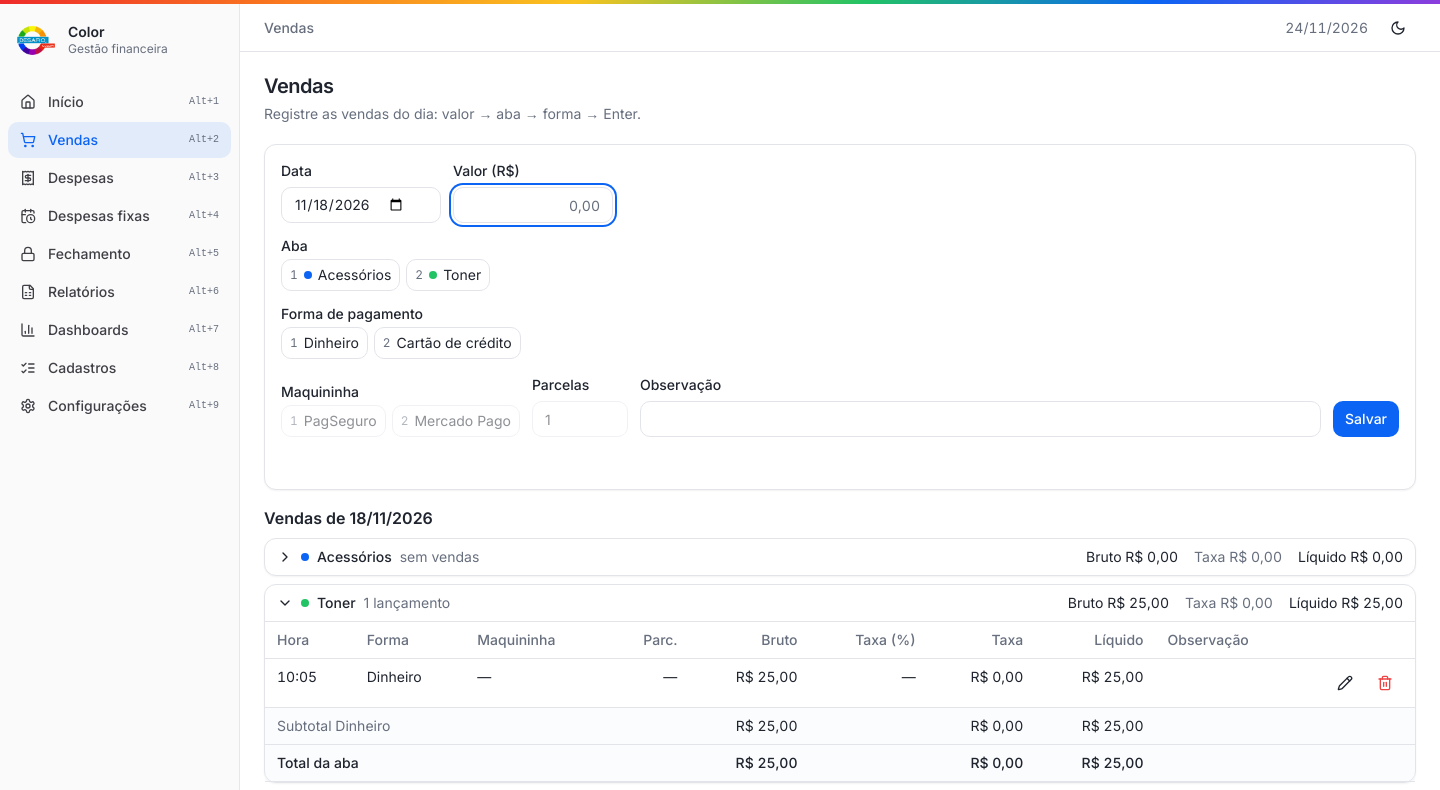
Vendas: the day per tab (FR-05) › FR-03: Esc cancels the edit without saving
The width and height of the screenshot is (1440, 790).
Expected: the radio button labelled "2 Toner" is shown, top-left (406, 259), bottom-right (490, 291)
Expected: the date field labelled "Data" holds "2026-11-18", top-left (281, 187), bottom-right (441, 223)
Click the button named "Editar venda" at (1345, 682), box top-left (1327, 666), bottom-right (1363, 698)
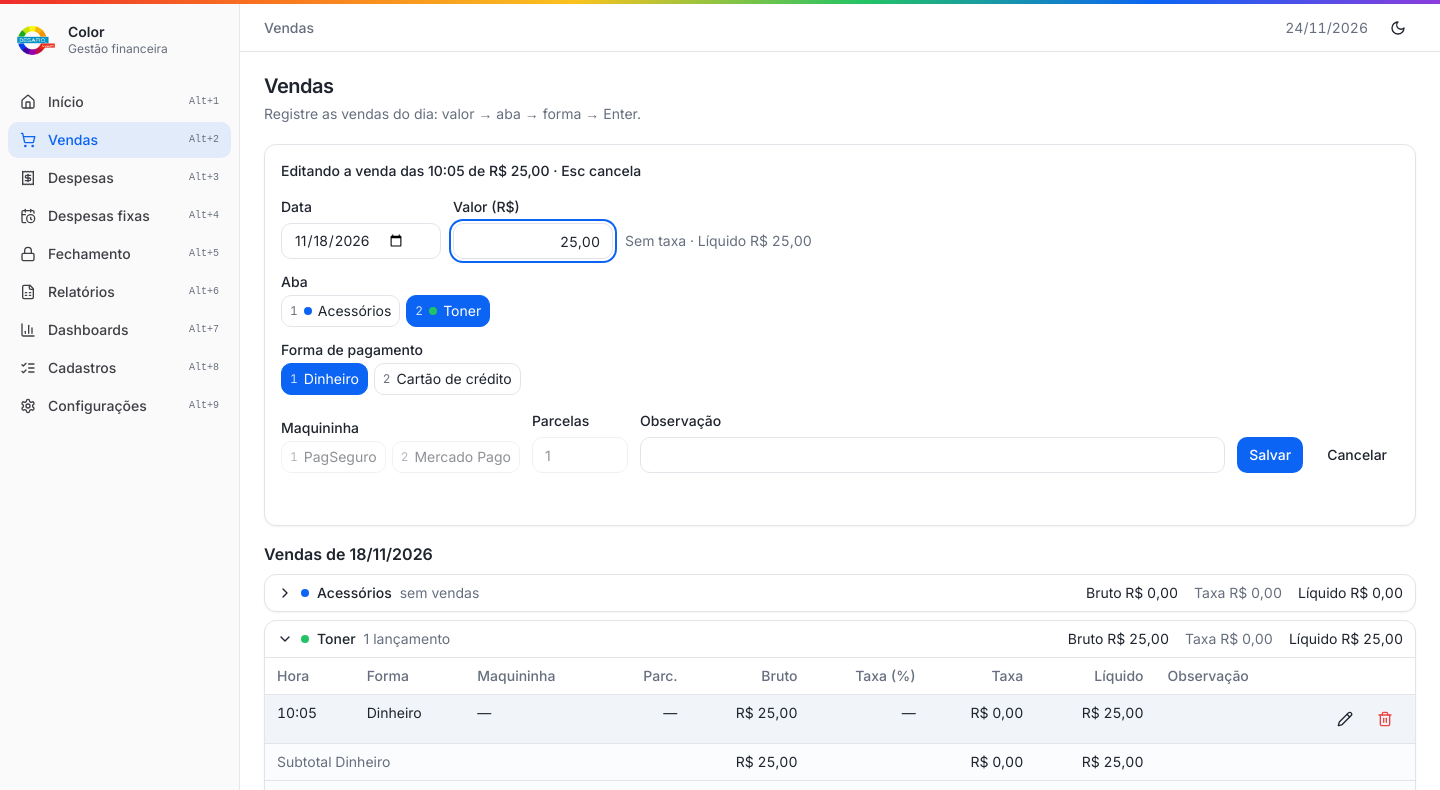
Press Escape in the field labelled "Valor (R$)", box top-left (453, 223), bottom-right (613, 259)
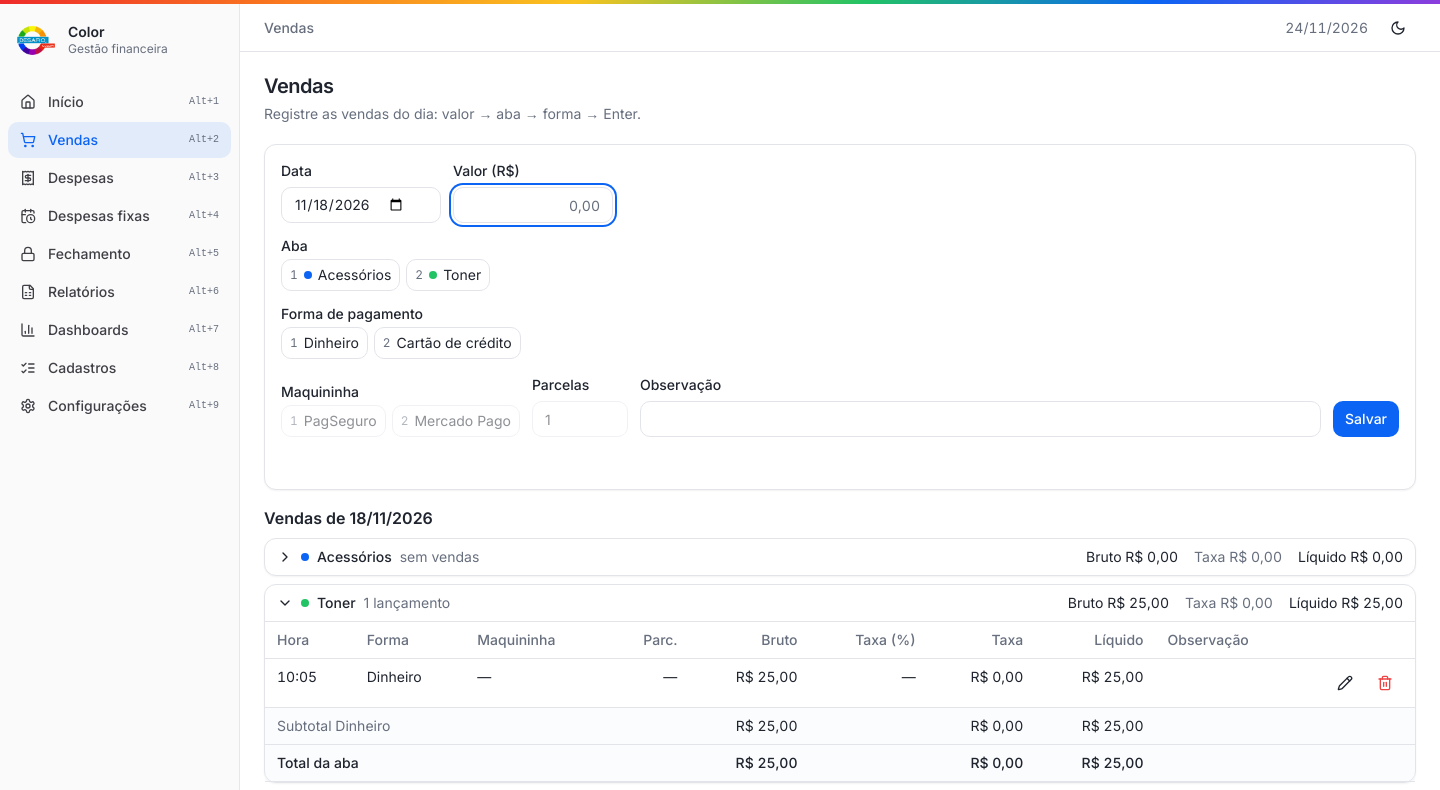
Now the form named "Nova venda" is shown, box top-left (281, 161), bottom-right (1399, 473)
Now the field labelled "Valor (R$)" is empty, box top-left (453, 187), bottom-right (613, 223)
